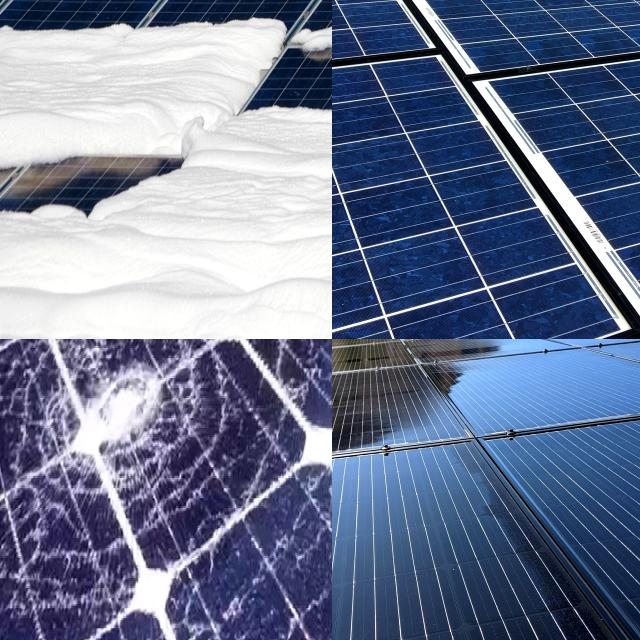crack: (361, 0, 640, 81), (447, 572, 634, 640), (384, 472, 504, 554), (526, 444, 640, 530), (569, 508, 640, 633), (365, 582, 491, 640), (332, 469, 397, 541), (332, 525, 384, 609), (491, 366, 590, 408), (332, 390, 410, 435), (393, 611, 506, 640), (332, 397, 383, 450), (332, 599, 390, 640)
hotspot: (53, 339, 192, 483)
panel: (0, 0, 282, 165), (0, 158, 147, 262)
